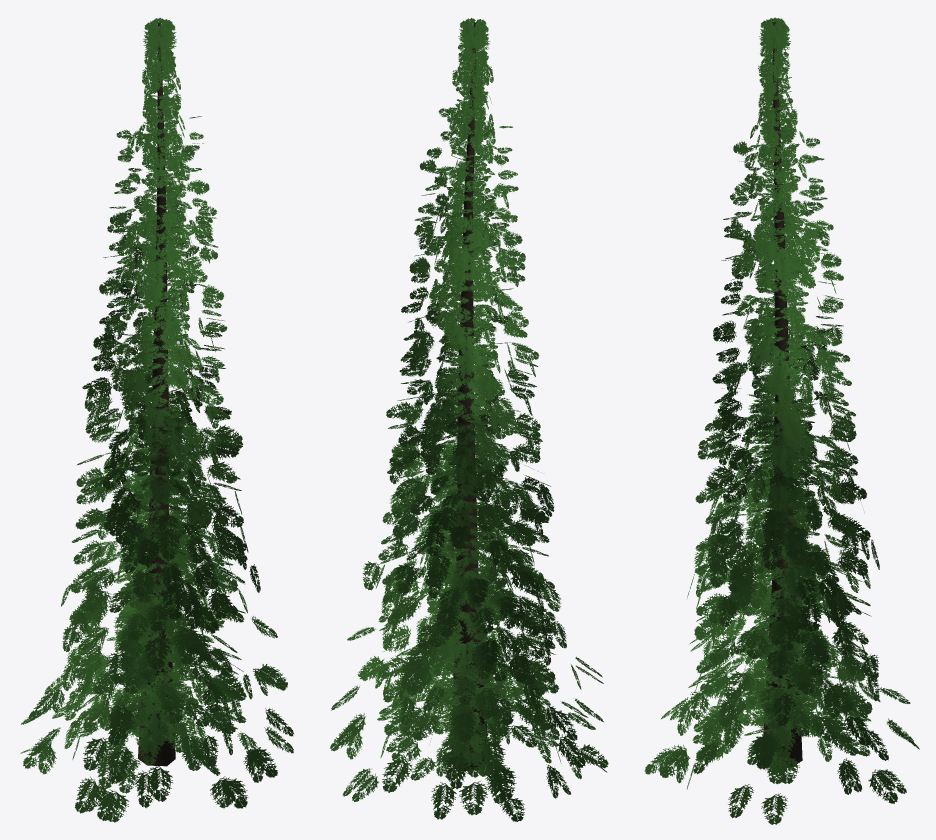
The model's file is spruce_conifer_v02_LOD2.fbx.
The picture shows the model from 3 angles, left to right: view 1: azimuth 30°, elevation 25°; view 2: azimuth 150°, elevation 25°; view 3: azimuth 270°, elevation 25°; orthographic projection.
Parts seen in each view (by area): view 1: spruce_conifer_v02_LOD2; view 2: spruce_conifer_v02_LOD2; view 3: spruce_conifer_v02_LOD2.
Boxes of the visible parts, <box> form: spruce_conifer_v02_LOD2: <box>20,17,293,822</box>; spruce_conifer_v02_LOD2: <box>330,18,608,821</box>; spruce_conifer_v02_LOD2: <box>644,17,919,824</box>.
Bounding box in the file's own units: 985 × 969 × 2909.
2 materials, 2 textured.
